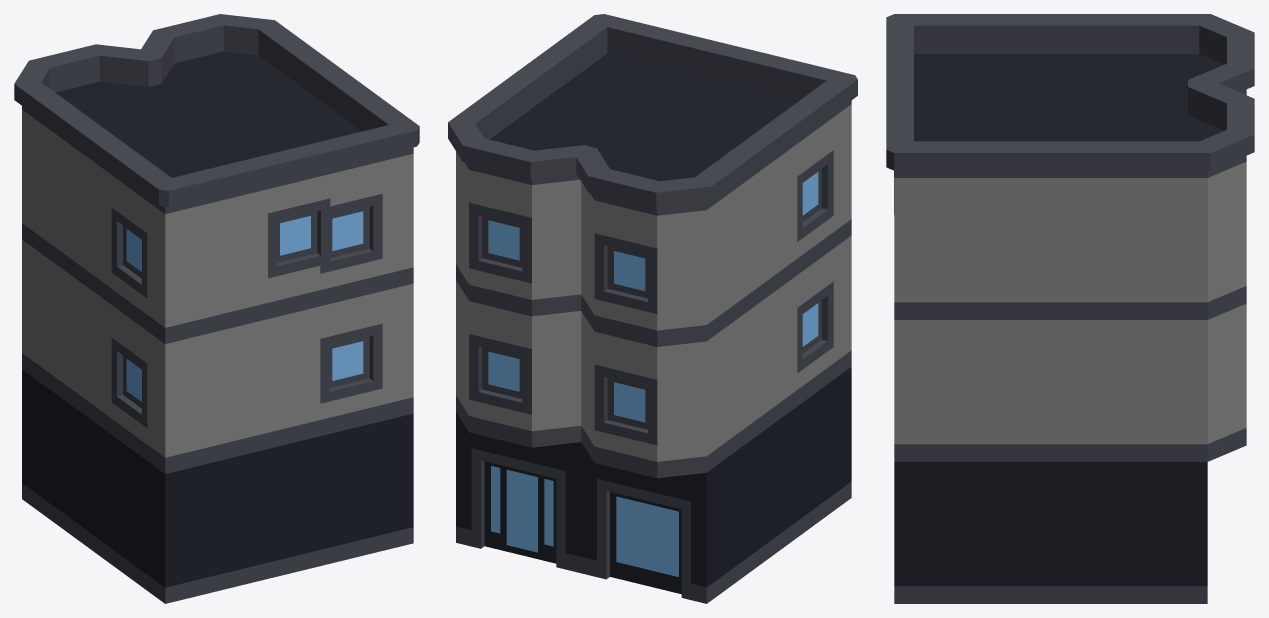
Rendered from variant_10.obj.
3 renders of one model, left to right at view 1: azimuth 30°, elevation 25°; view 2: azimuth 150°, elevation 25°; view 3: azimuth 270°, elevation 25°, orthographic. The views are drawn at different scales.
Visible parts, largest first — view 1: Building_copy, Window_copy; view 2: Building_copy; view 3: Building_copy.
Part boxes in pixels (x1,y1,x2,y2): Building_copy: [14, 14, 419, 603]; Window_copy: [268, 198, 330, 278]; Building_copy: [448, 14, 857, 603]; Building_copy: [886, 14, 1254, 603].
Bounding box in the file's own units: 0.84 × 1.28 × 0.94.
